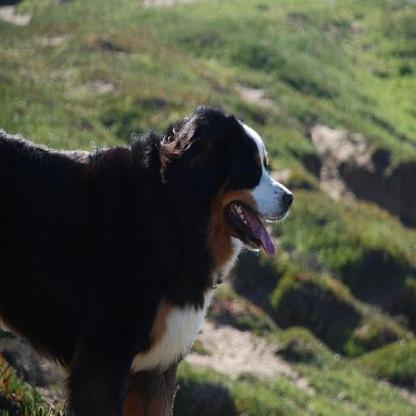Bernese_mountain_dog: (0, 103, 292, 414)
